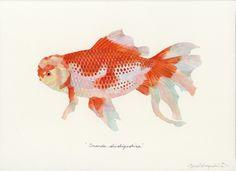goldfish: (32, 42, 204, 128)
